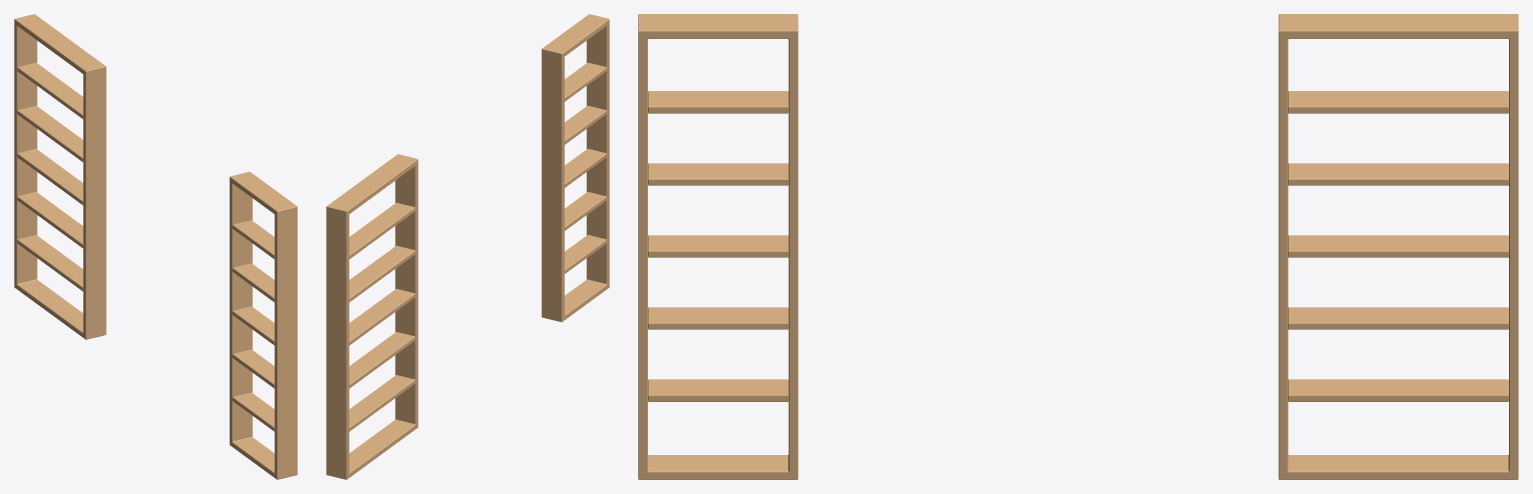
File: SM_wooden_rack_2.fbx
3 views of the same model, side by side, from view 1: azimuth 30°, elevation 25°; view 2: azimuth 150°, elevation 25°; view 3: azimuth 270°, elevation 25° (orthographic). The views are drawn at different scales.
Parts seen in each view (by area): view 1: SM_wooden_rack_2; view 2: SM_wooden_rack_2; view 3: SM_wooden_rack_2.
Boxes of the visible parts, x1,y1,x2,y2 form: SM_wooden_rack_2: [14, 14, 297, 479]; SM_wooden_rack_2: [326, 14, 609, 479]; SM_wooden_rack_2: [638, 14, 1518, 479].
Size of the model in its own units: 25 by 310 by 550.
